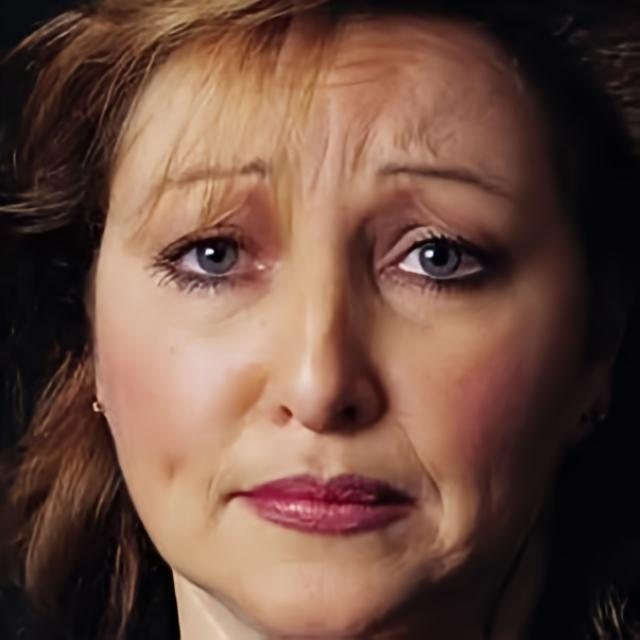sad: (91, 9, 574, 639)
